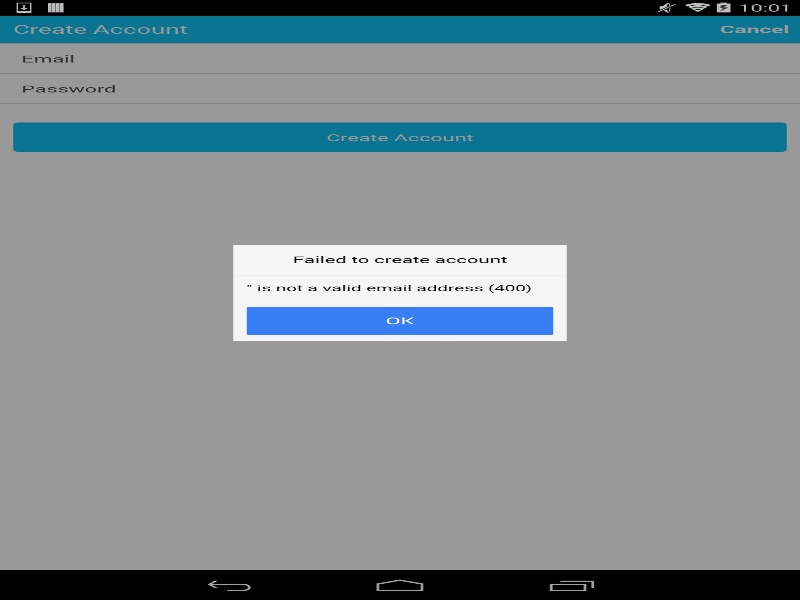Button: (6, 138, 793, 173), (208, 305, 592, 346), (300, 205, 496, 240), (709, 570, 800, 597)
Input: (288, 48, 800, 69), (288, 78, 800, 99)
